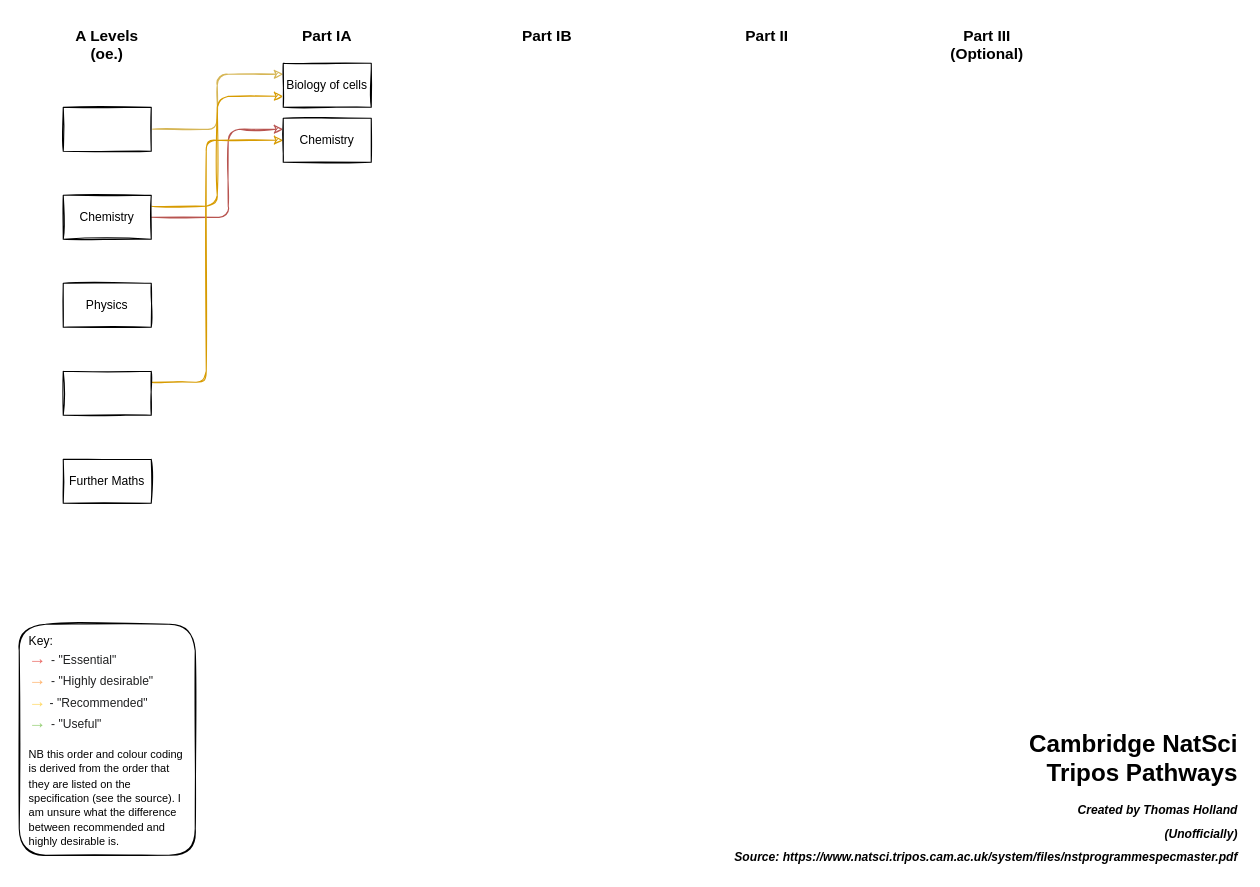
This 1260x887 diagram has some shape labels left out. Here are the shapes that lost their labels. From the top down, the box of each, then its label:
(62, 106, 151, 151): Biology
(62, 370, 151, 415): Maths
